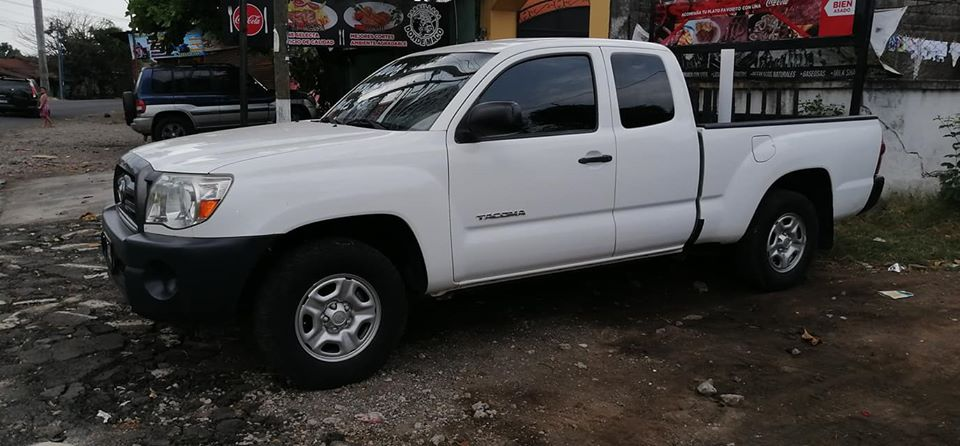pickup: (91, 37, 888, 291)
